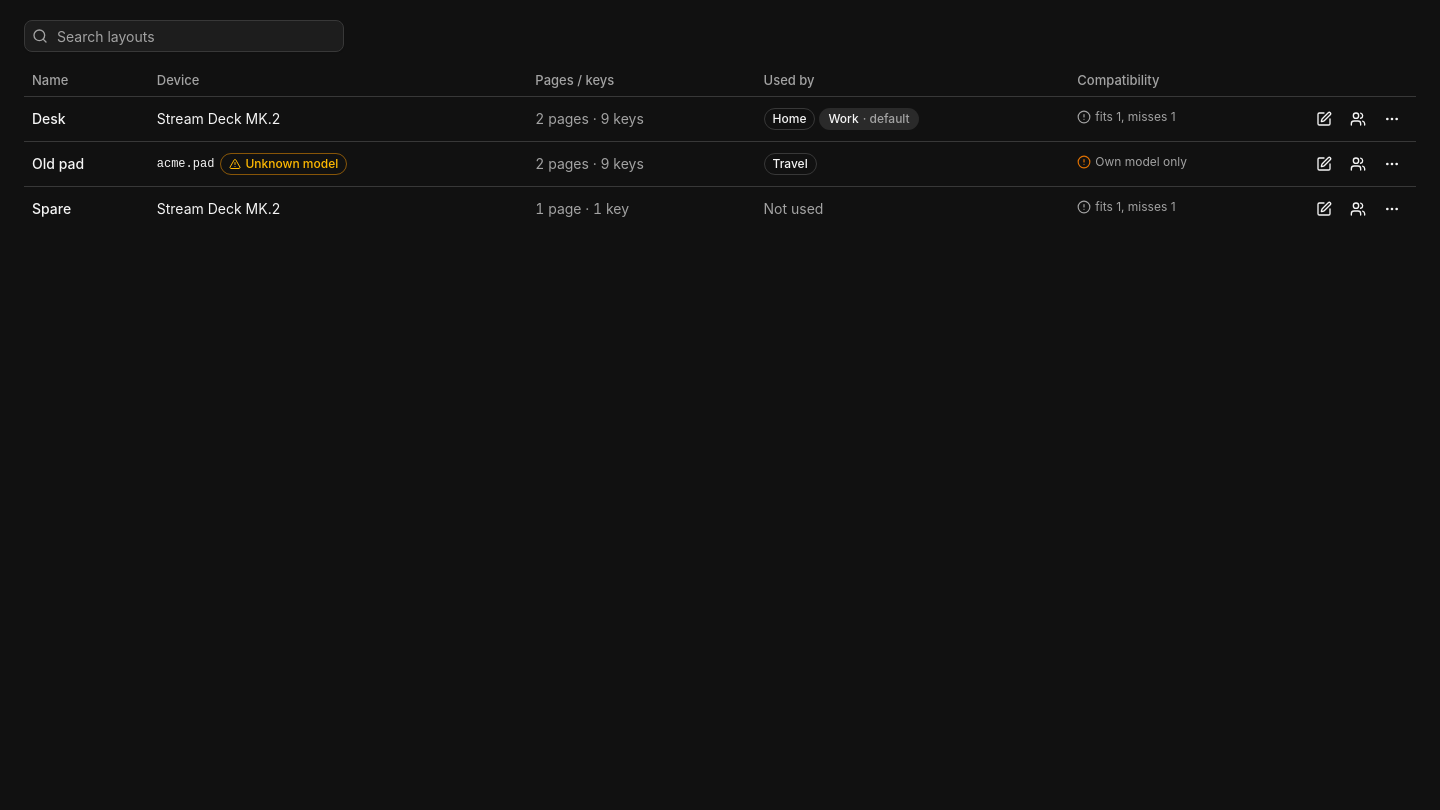
it: Layouts page › reports a refused delete
Expected: the table is shown, [24, 64, 1416, 230]
Step 1. Click the button named "More actions for Spare" → (1392, 208), box [1376, 192, 1408, 224]
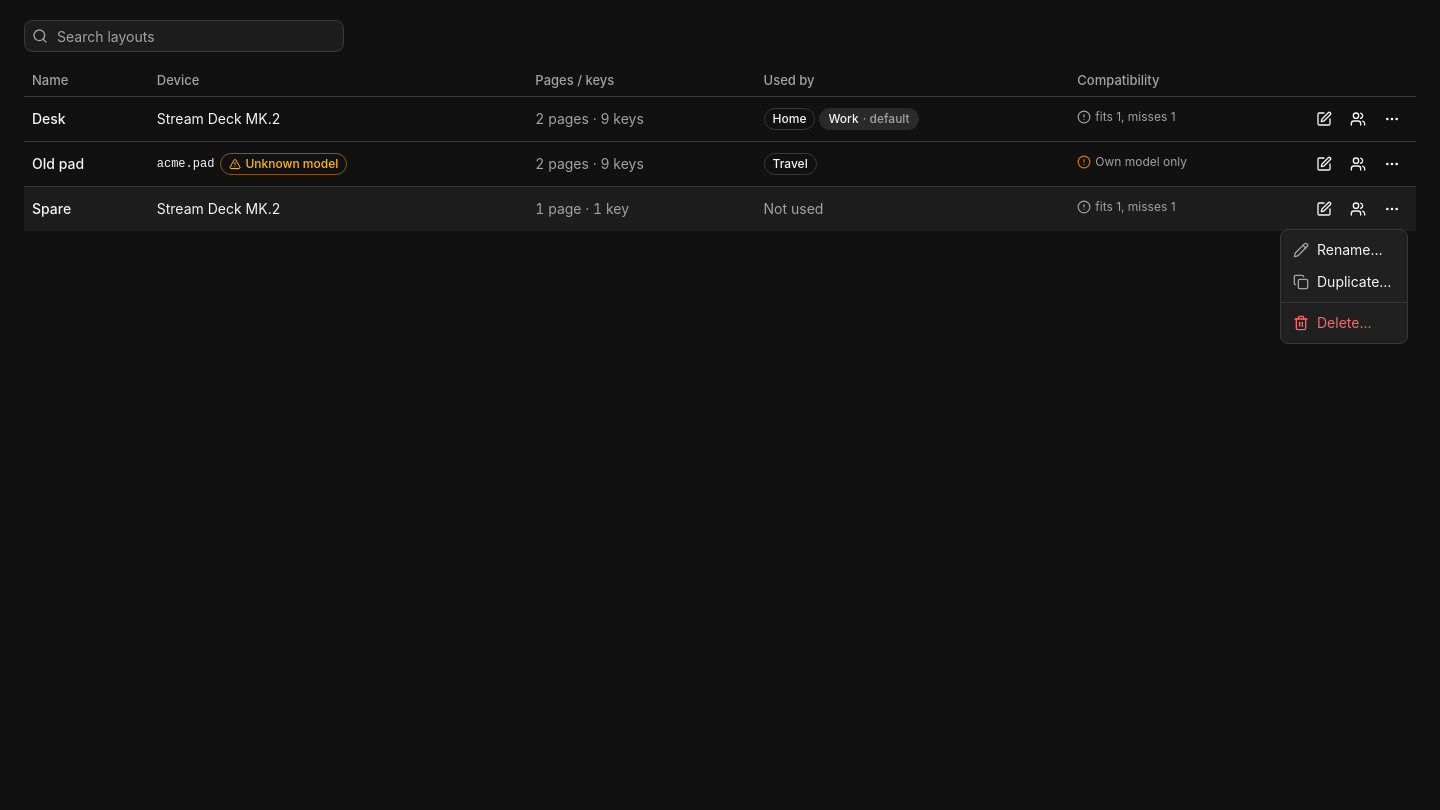
Step 2. Click the menu item "Delete…" → (1332, 322), box [1293, 314, 1372, 331]
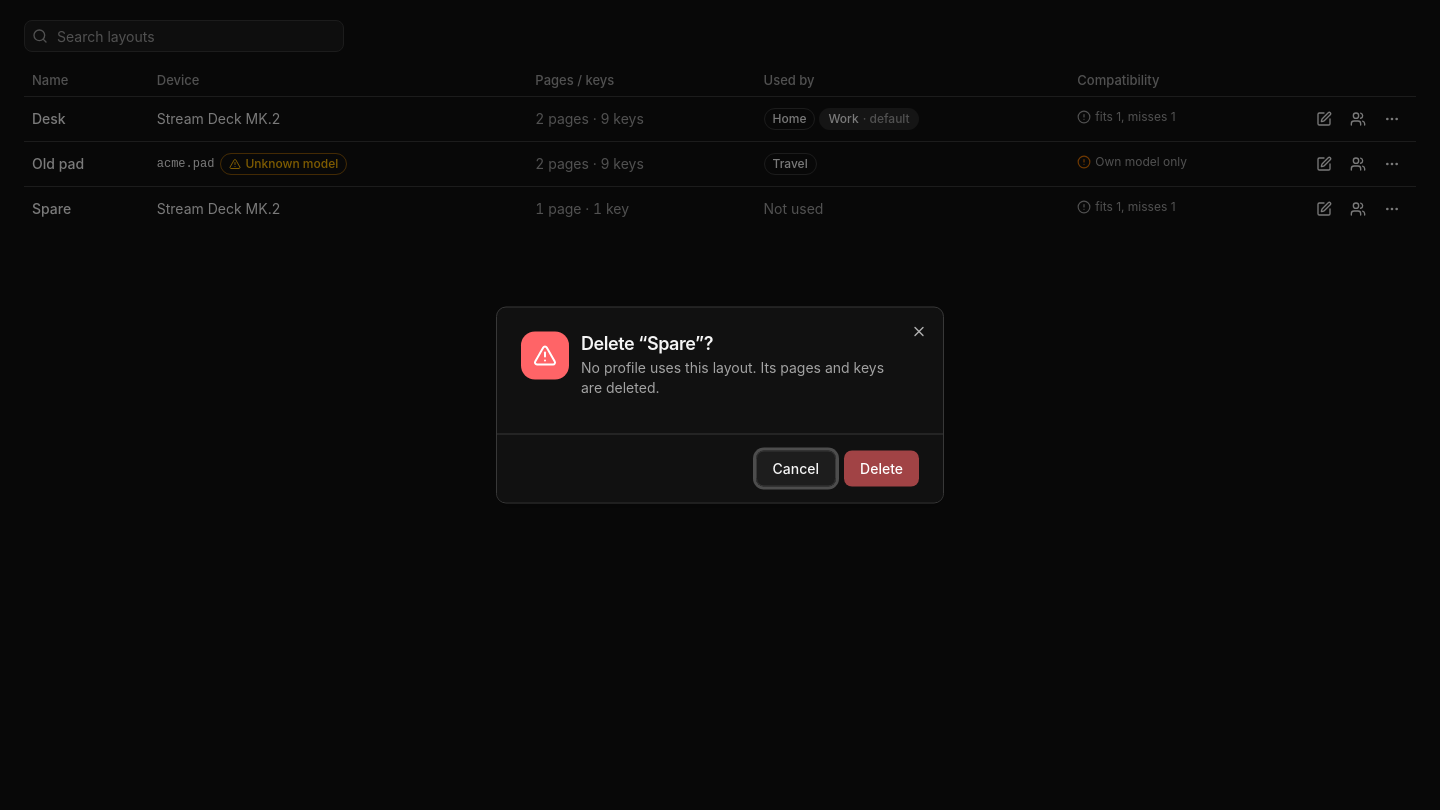
Now the dialog shows "No profile uses this layout", box [581, 358, 884, 396]
Step 3. Click the button "Delete" → (882, 468), box [844, 450, 919, 486]
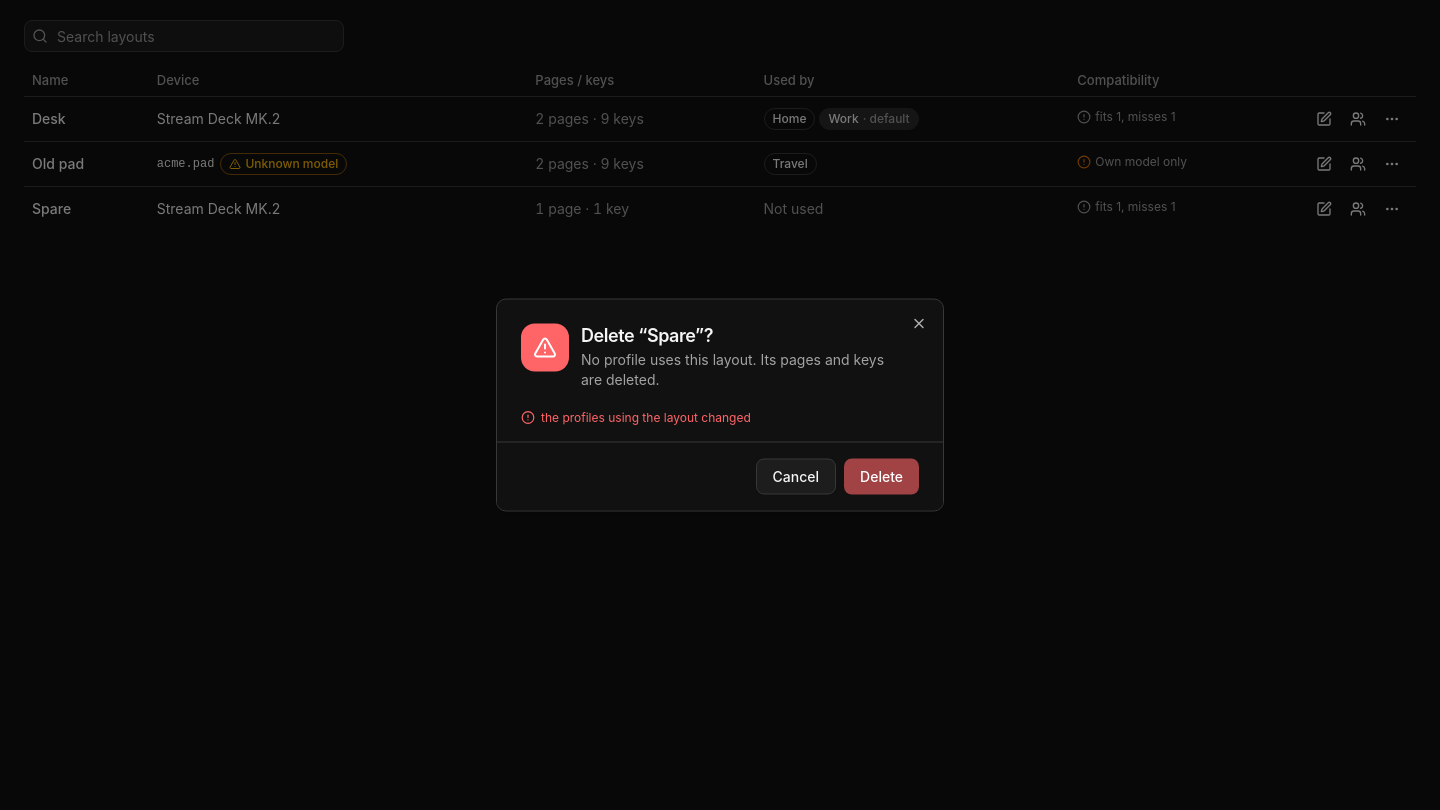
Now the dialog is shown, box [496, 298, 944, 512]
Now the text "the profiles using the layout changed" is shown, box [541, 410, 751, 426]
